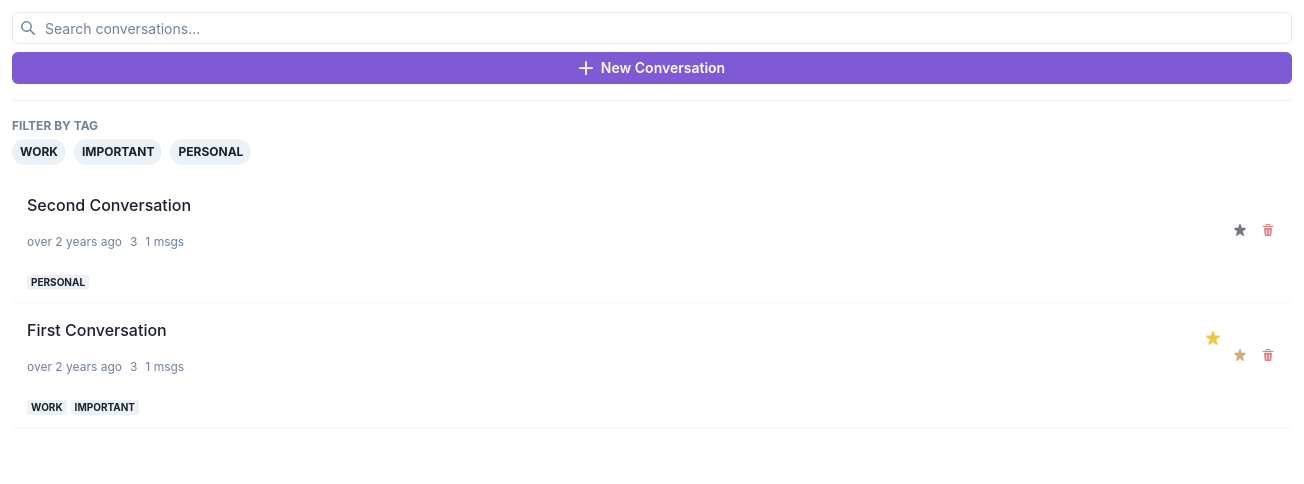
it: ConversationListView › shows empty state when no conversations match search
Type "NonexistentQuery" into the field with placeholder "Search conversations...". click: coordinates (652, 28)
box: [12, 12, 1292, 44]
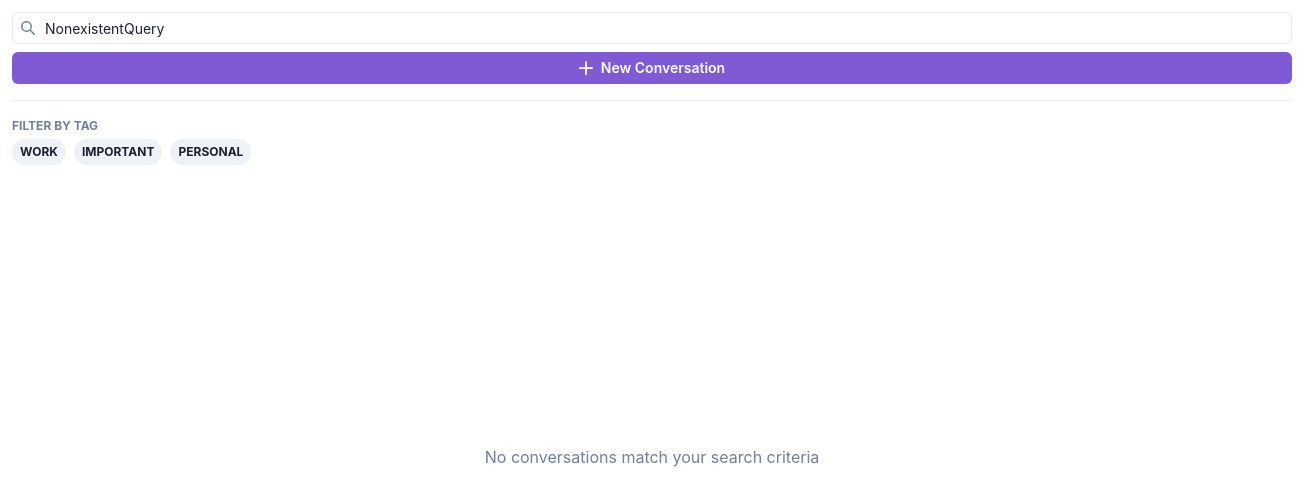
Check: the text "No conversations match your search criteria" is shown, box [485, 446, 819, 466]
